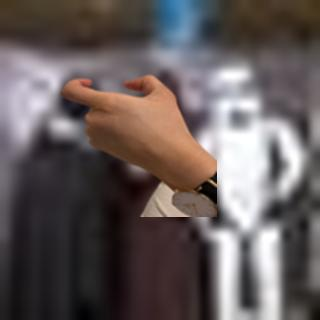HATE: (52, 65, 194, 178)
